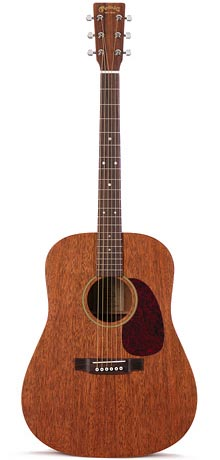guitar: (20, 1, 197, 456)
